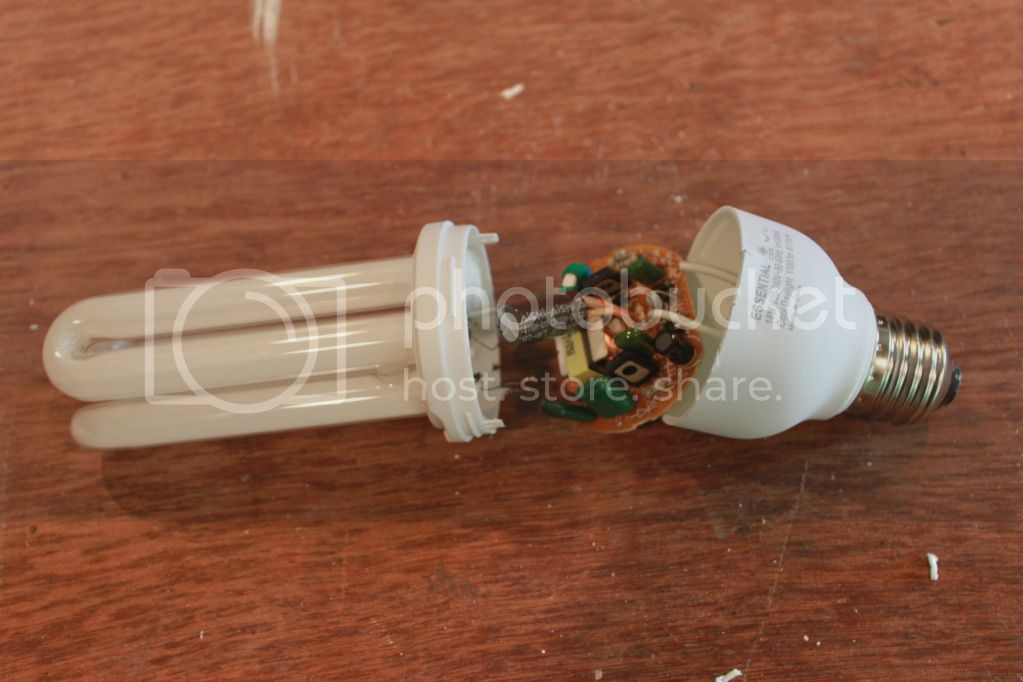Light_bulb: (37, 195, 982, 486)
